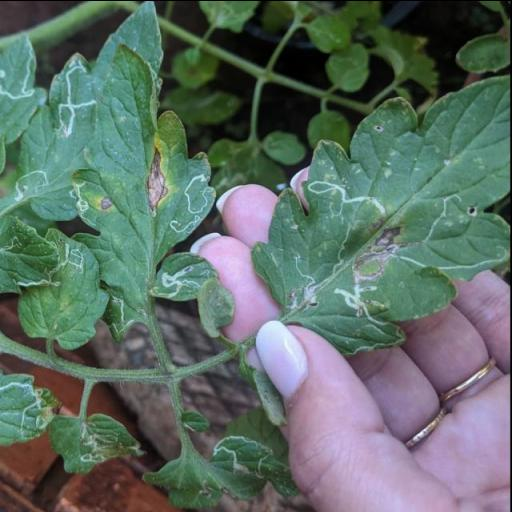Leaf Miner: (252, 72, 512, 352), (151, 250, 219, 300)
